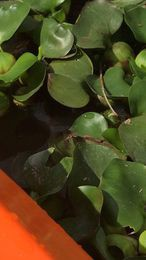water_hyacinth: (0, 1, 146, 258)
